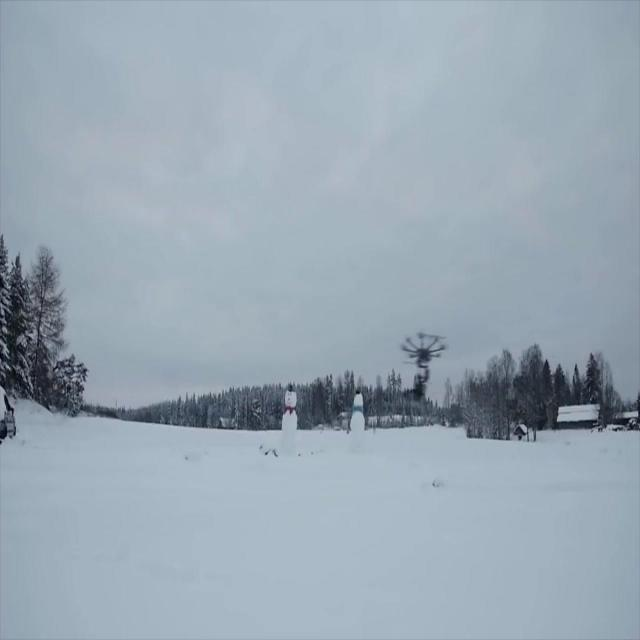UAV: (399, 331, 449, 369)
